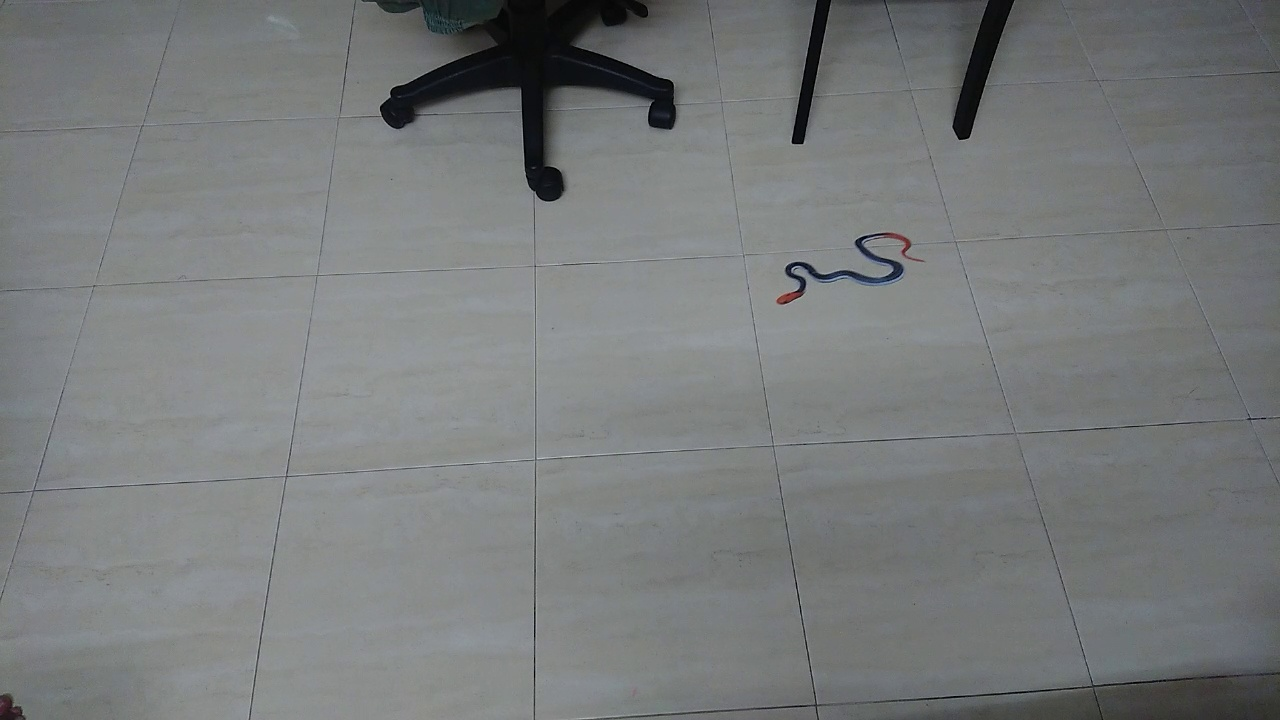snake: (753, 218, 937, 317)
